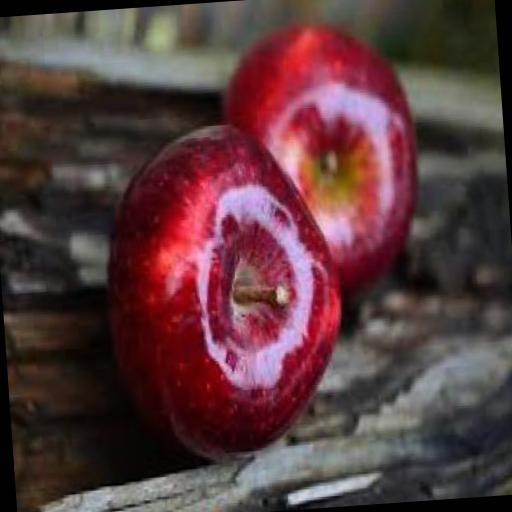biodegradable: (89, 112, 352, 466), (216, 12, 425, 304)
